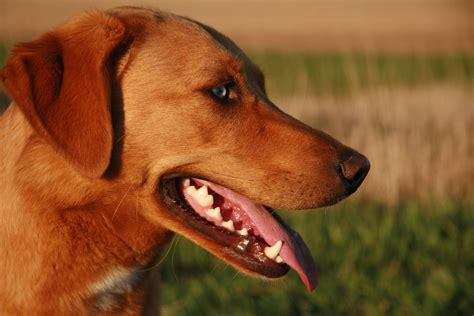dog: (1, 7, 369, 316)
